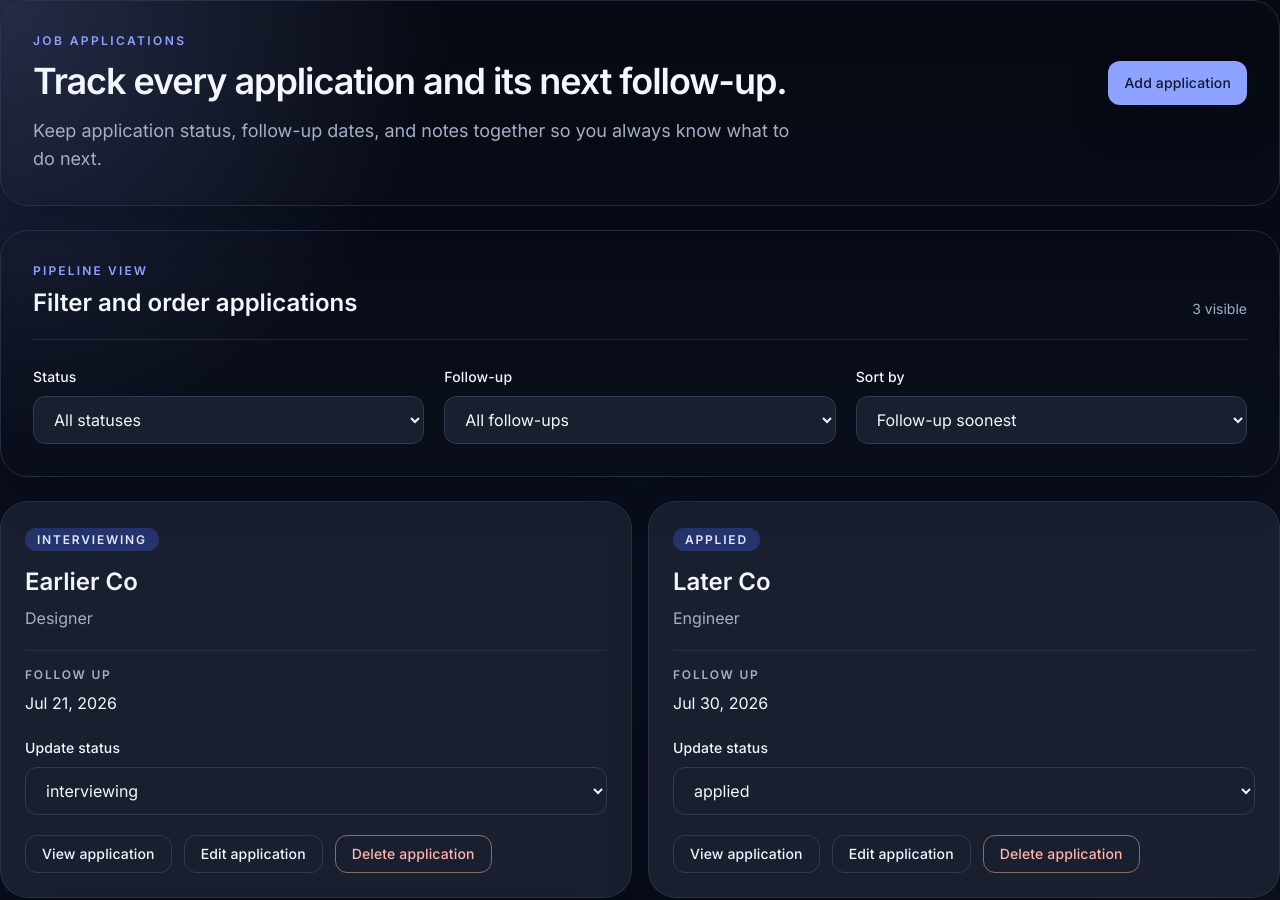
Test: JobApplicationsPage › filters statuses and sorts scheduled follow-ups before unscheduled applications
The image size is (1280, 900).
Select "applied" in the dropdown labelled "Status": (229, 420) [33,396,424,444]
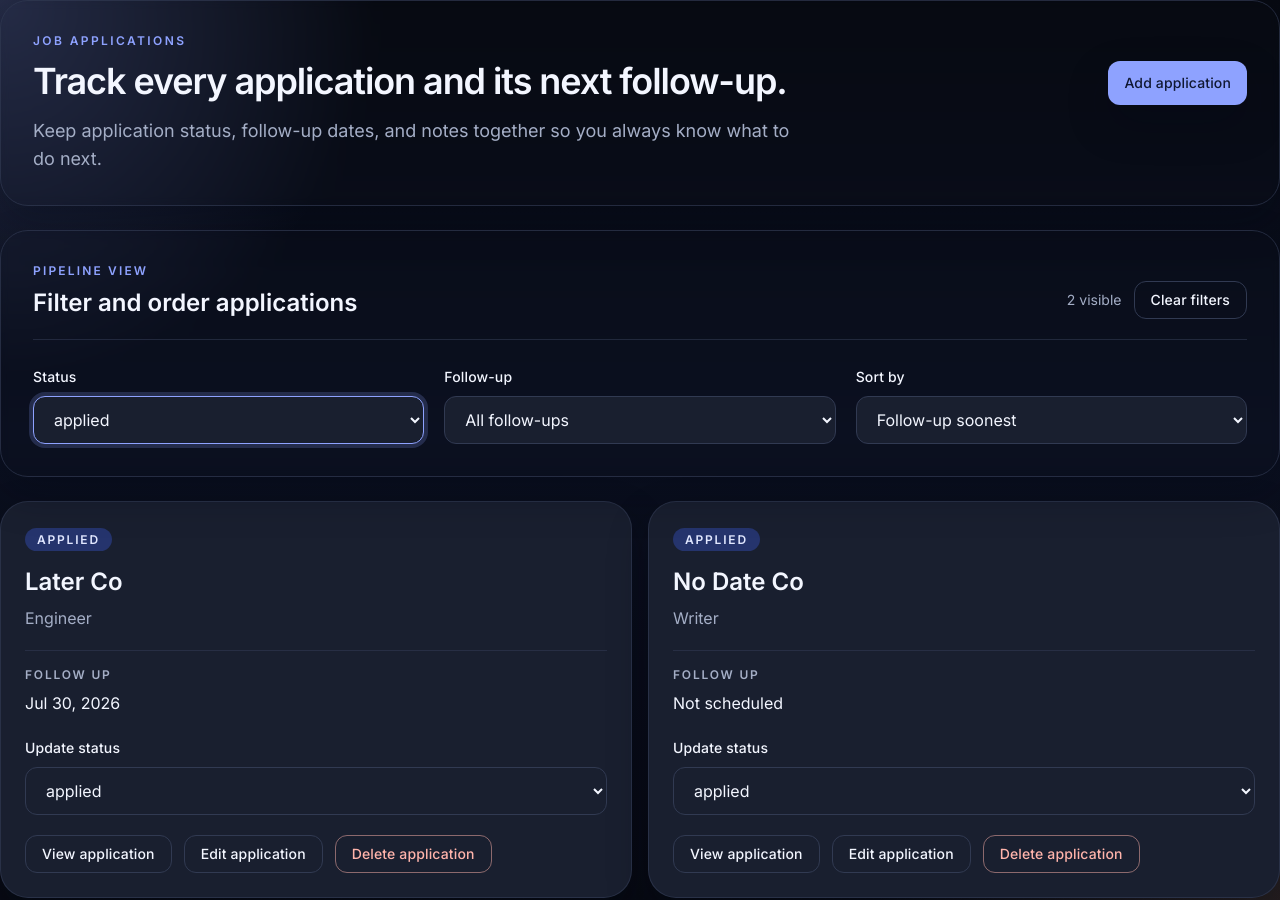
Expected: the heading "Later Co" is shown, [25,567,123,596]
Expected: the heading "Earlier Co" is gone
